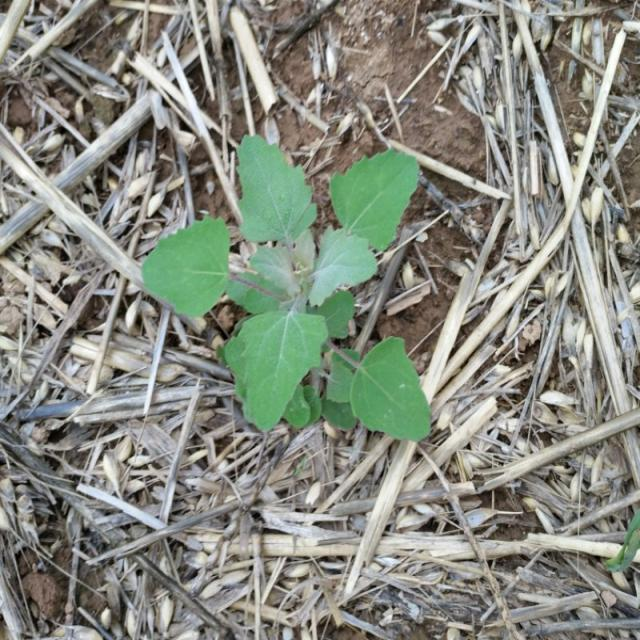goosefoots: (142, 118, 428, 463)
